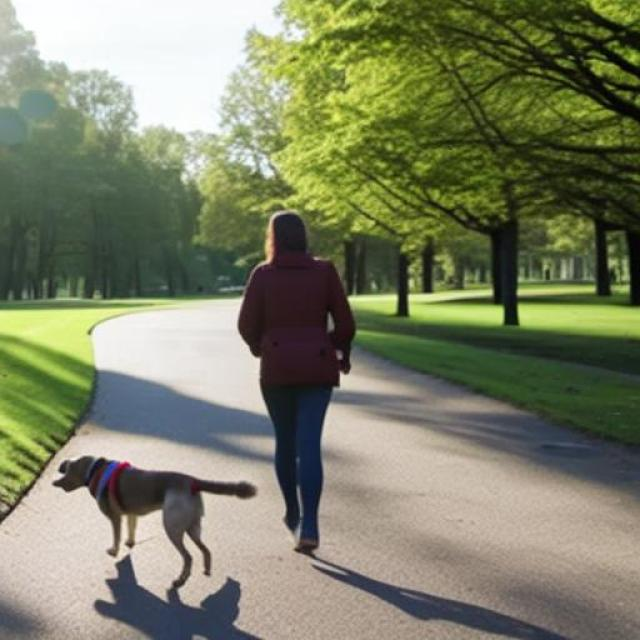Unleashed_Dog: (52, 386, 334, 585)
